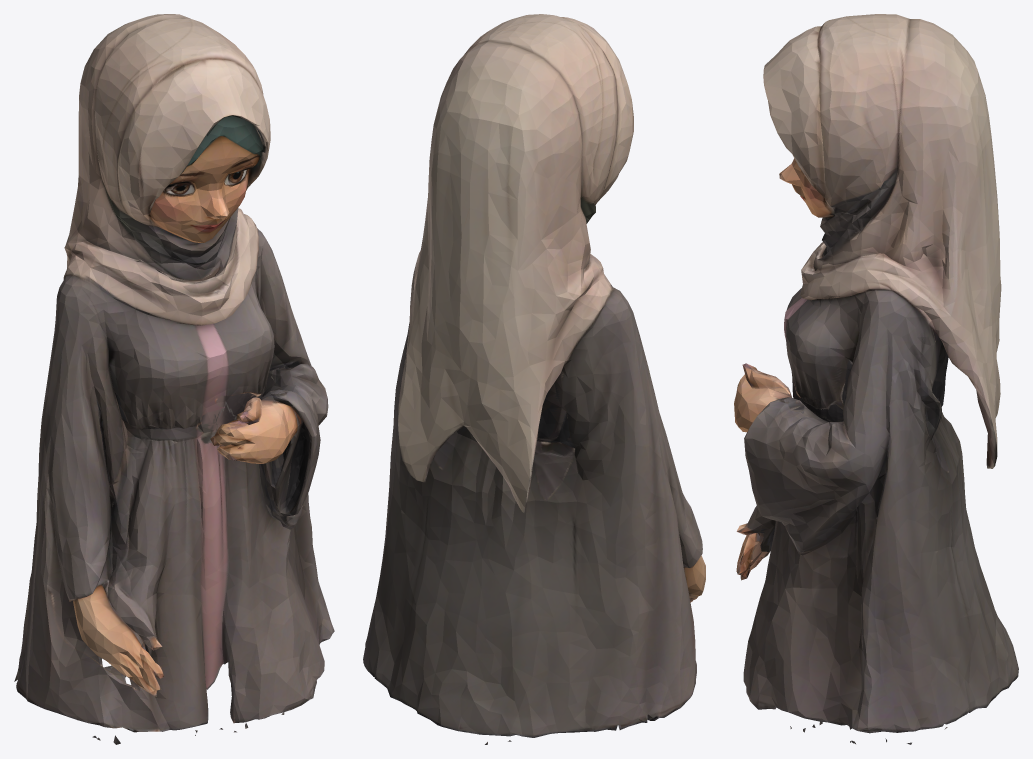
Rendered from mother.fbx.
3 renders of one model, left to right at view 1: azimuth 30°, elevation 25°; view 2: azimuth 150°, elevation 25°; view 3: azimuth 270°, elevation 25°, orthographic.
Visible parts, largest first — view 1: temp; view 2: temp; view 3: temp.
Part boxes in pixels (x1,y1,x2,y2): temp: [14, 14, 334, 744]; temp: [363, 14, 705, 744]; temp: [734, 14, 1018, 744].
Size of the model in its own units: 92.41 by 199 by 75.66.
1 material, 1 textured.
